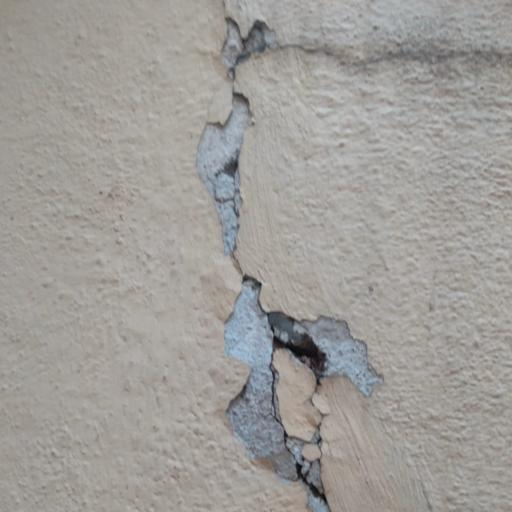major_crack: (188, 9, 391, 512)
